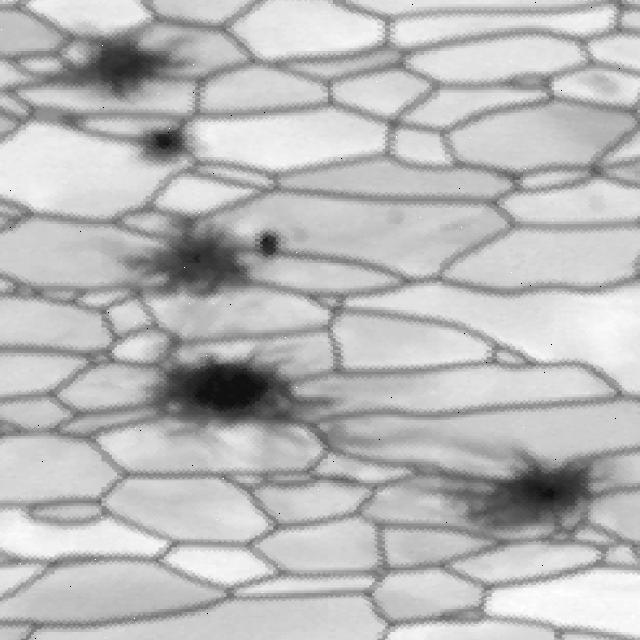good_void: (104, 341, 356, 461), (407, 443, 613, 558), (35, 18, 203, 107), (112, 214, 259, 307), (130, 123, 201, 171), (573, 76, 630, 100), (256, 230, 288, 263), (586, 193, 618, 216)
